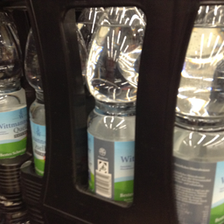water: (81, 8, 143, 204), (174, 4, 224, 216)
